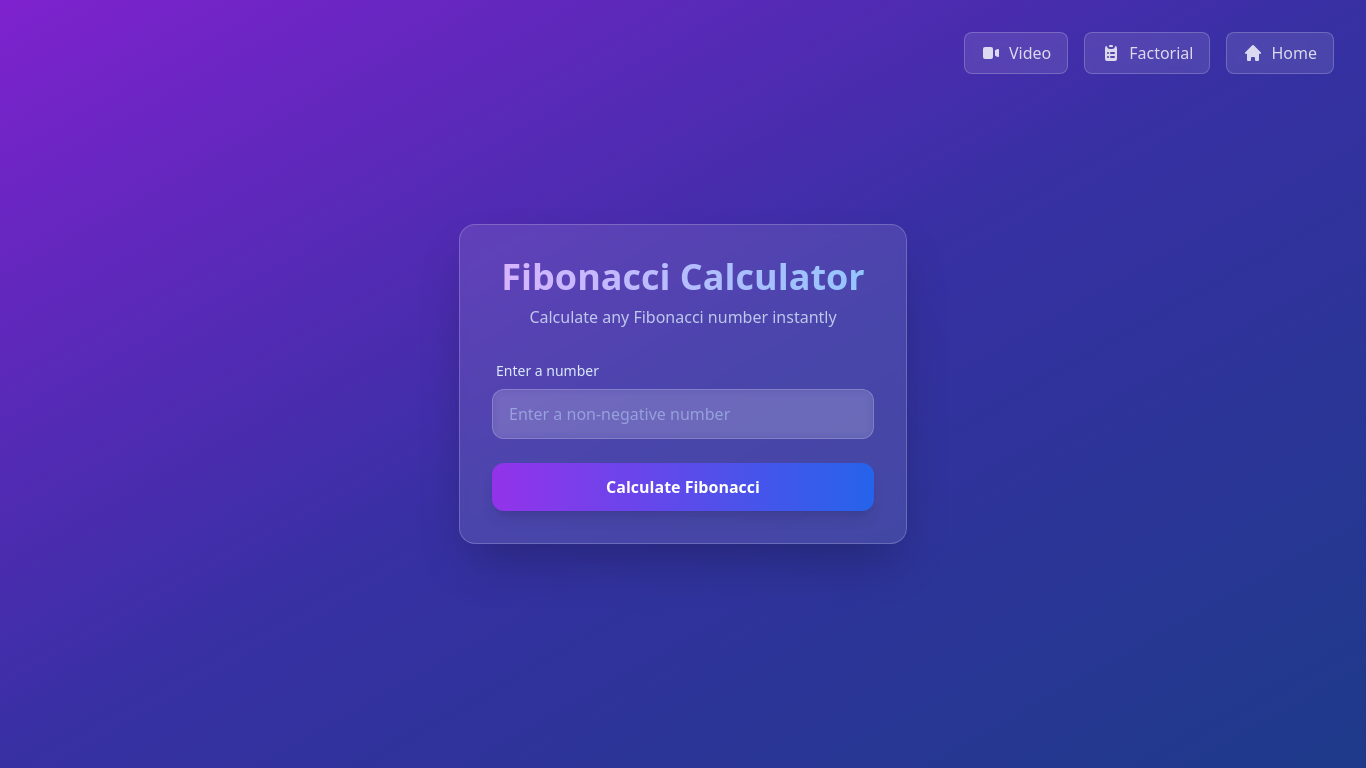
Test case: Calculator Component › calculates fibonacci number successfully
This screenshot has width=1366, height=768.
Type "5" into the number field with placeholder "Enter a non-negative number" at coordinates (683, 414), box left=492, top=389, right=874, bottom=439
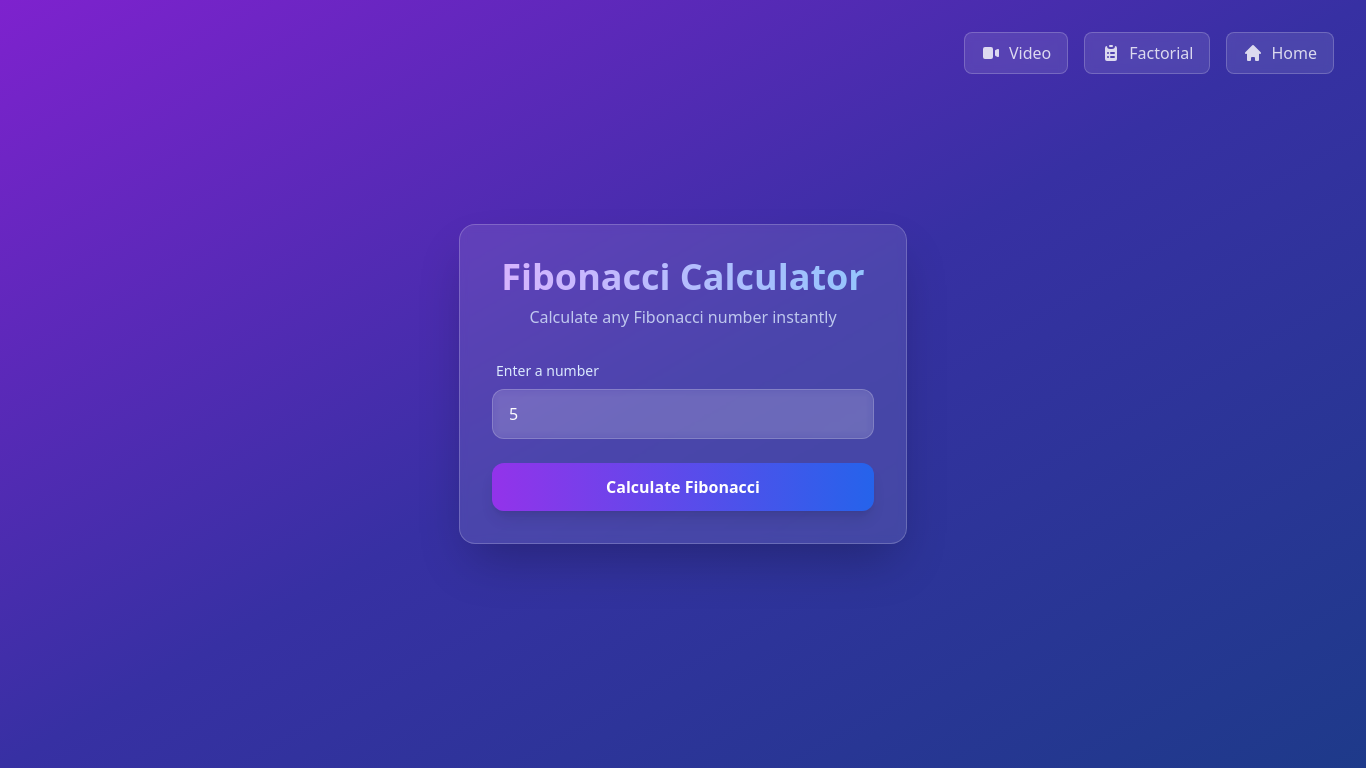
Click the button "Calculate Fibonacci" at coordinates (683, 487), box left=492, top=463, right=874, bottom=511
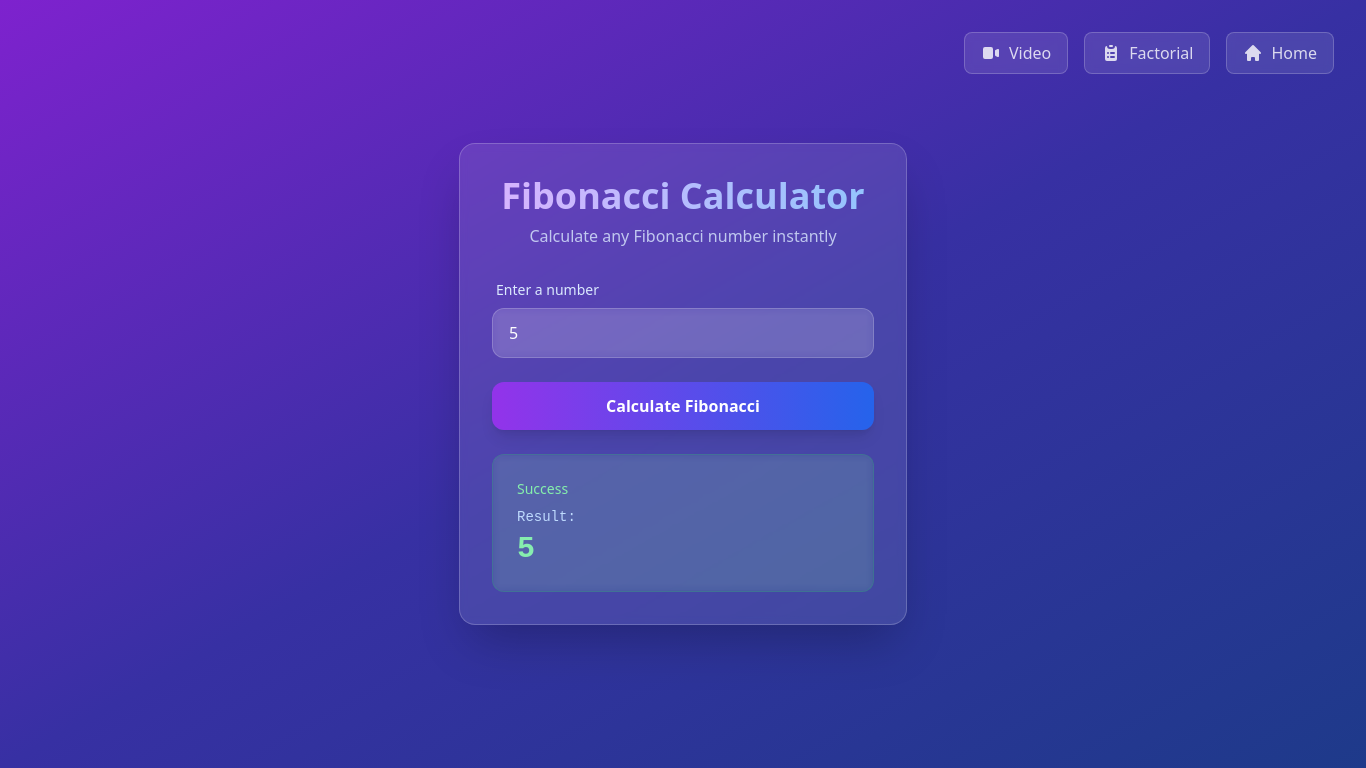
Result: the text "Success" is shown at left=517, top=479, right=568, bottom=498
Result: the text "5" is shown at left=517, top=531, right=849, bottom=567
